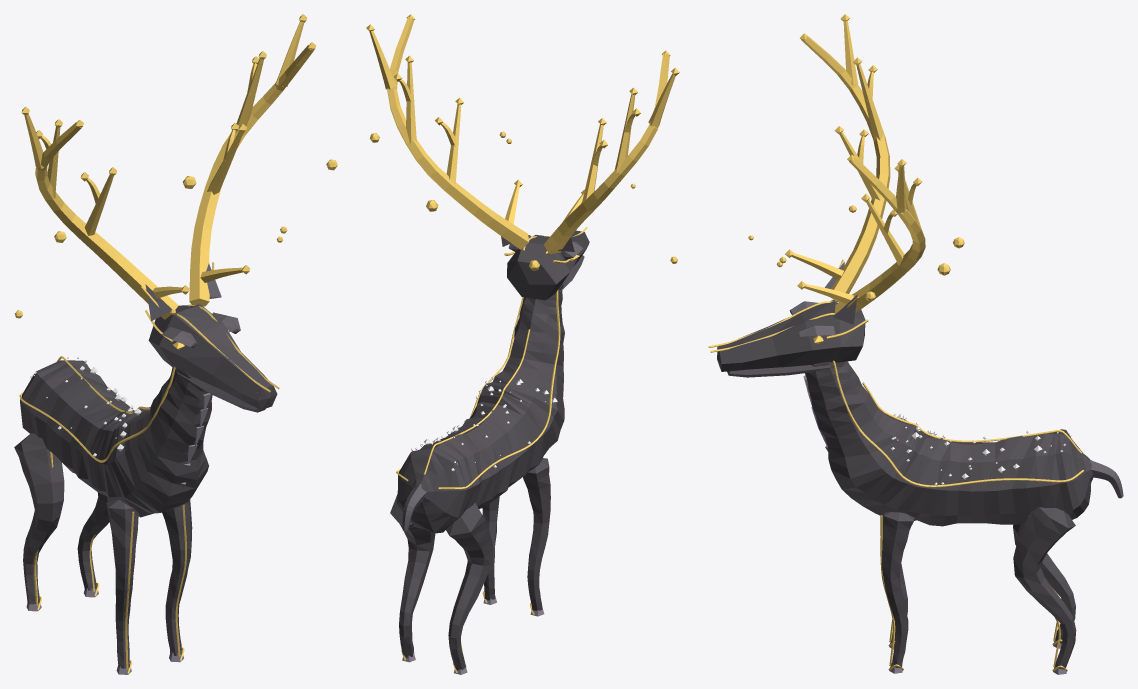
The model's file is Ciervo.obj.
3 views of the same model, side by side, from view 1: azimuth 30°, elevation 25°; view 2: azimuth 150°, elevation 25°; view 3: azimuth 270°, elevation 25° (orthographic). The views are drawn at different scales.
Parts seen in each view (by area): view 1: Ciervo_Cuerpo, Ciervo_Cristal, Ciervo_Brillo, Ciervo_Cuerpo2, Ciervo_Hueso, Ciervo_Estrellas; view 2: Ciervo_Cuerpo, Ciervo_Cristal, Ciervo_Brillo, Ciervo_Cuerpo2, Ciervo_Estrellas; view 3: Ciervo_Cuerpo, Ciervo_Cristal, Ciervo_Brillo, Ciervo_Cuerpo2.
Part boxes in pixels (x1,y1,x2,y2): Ciervo_Cuerpo: (14, 304, 277, 668); Ciervo_Cristal: (24, 21, 314, 319); Ciervo_Brillo: (15, 14, 337, 673); Ciervo_Cuerpo2: (145, 263, 240, 347); Ciervo_Hueso: (26, 393, 210, 674); Ciervo_Estrellas: (30, 356, 143, 456); Ciervo_Cuerpo: (390, 230, 589, 670); Ciervo_Cristal: (369, 16, 675, 253); Ciervo_Brillo: (366, 14, 679, 673); Ciervo_Cuerpo2: (402, 235, 583, 531); Ciervo_Estrellas: (411, 376, 557, 471); Ciervo_Cuerpo: (717, 300, 1092, 669); Ciervo_Cristal: (791, 20, 925, 321); Ciervo_Brillo: (708, 14, 1083, 671); Ciervo_Cuerpo2: (789, 261, 1123, 498).
Size of the model in its own units: 2.66 by 4.73 by 3.09.
